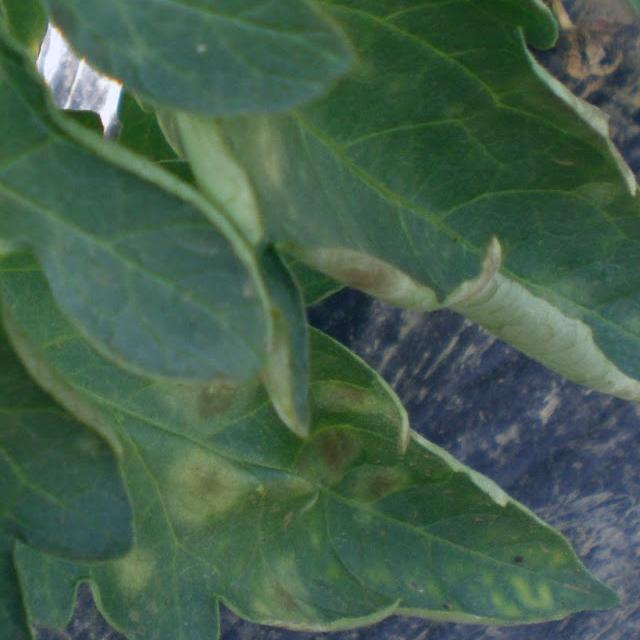Tomato mold leaf: (0, 0, 640, 424), (28, 188, 588, 640), (0, 44, 100, 640), (569, 0, 640, 282)
